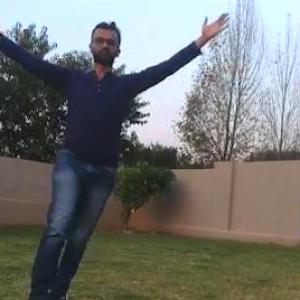takeoff: (0, 20, 217, 299)
